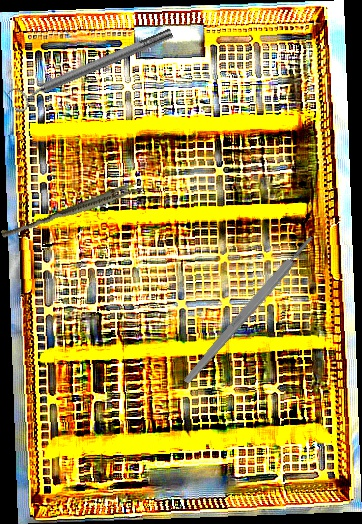Fixation Ring: (6, 21, 178, 115)
Scalpel Handle: (181, 233, 317, 386)
Tissue Forceps: (0, 177, 144, 244)
